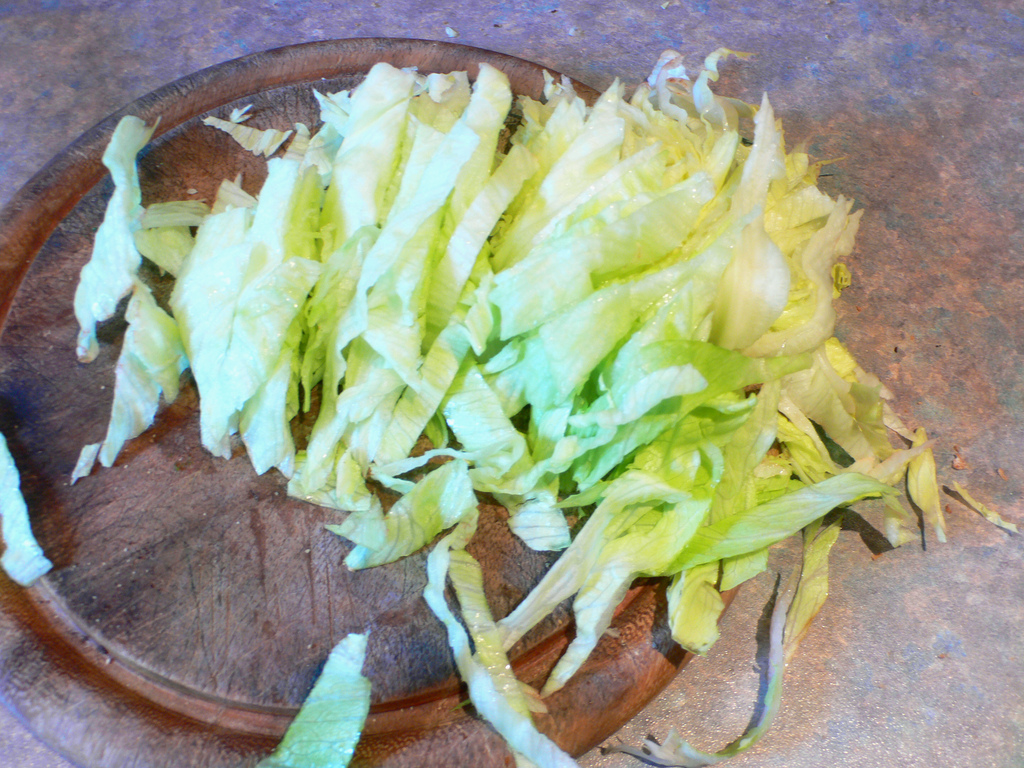chopped lettuce: (100, 82, 955, 590)
